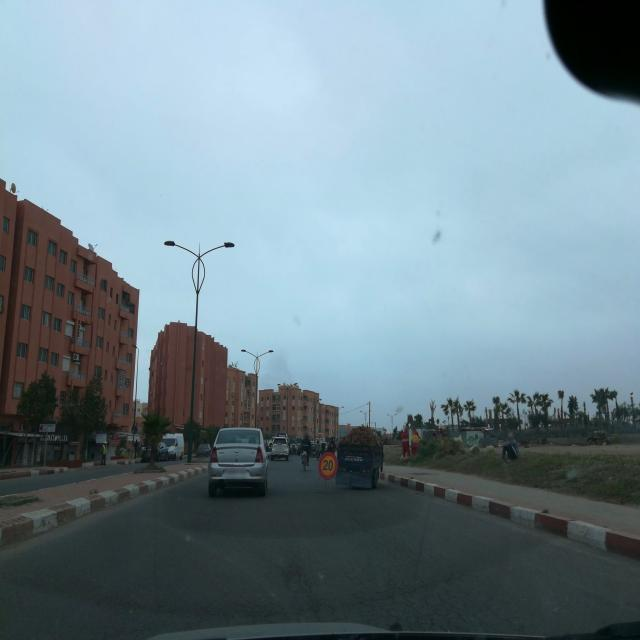car: (208, 427, 270, 497), (161, 432, 185, 461), (270, 437, 290, 461), (586, 430, 610, 446), (195, 443, 212, 458), (140, 446, 152, 462)
